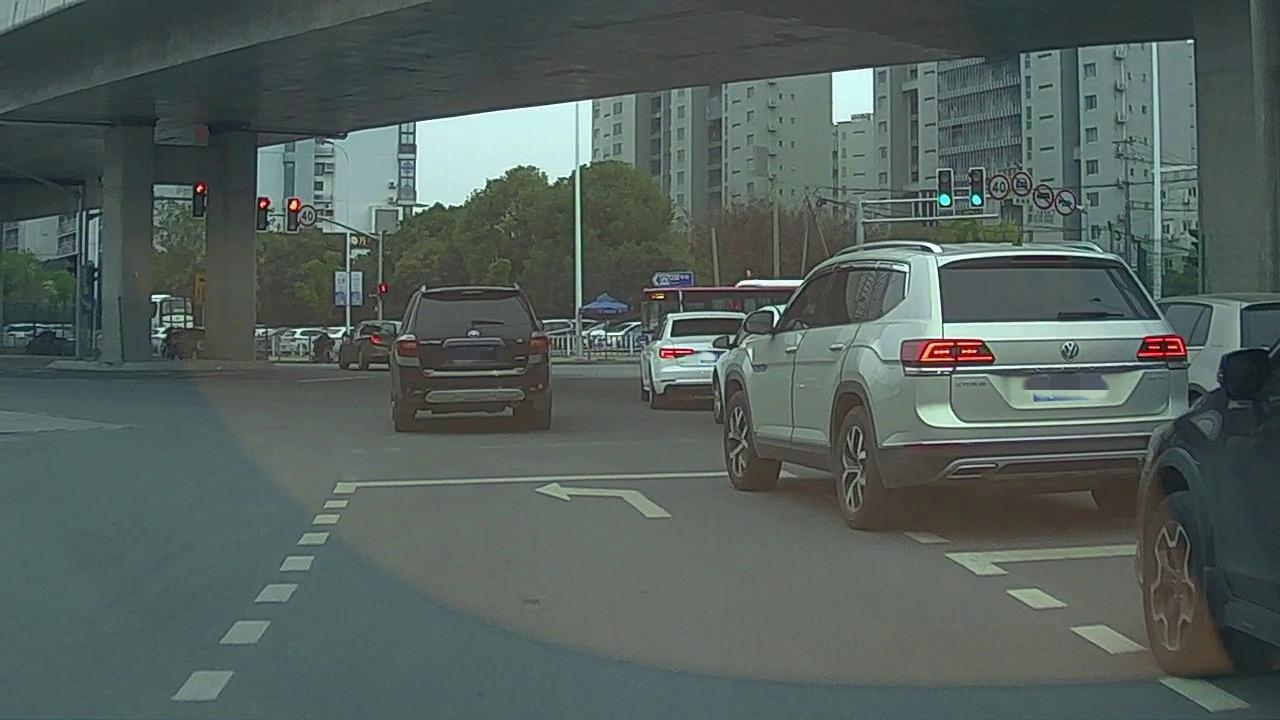traffic_light: (972, 169, 985, 208), (940, 170, 952, 208), (194, 183, 205, 219), (288, 197, 300, 230), (258, 198, 268, 228)
